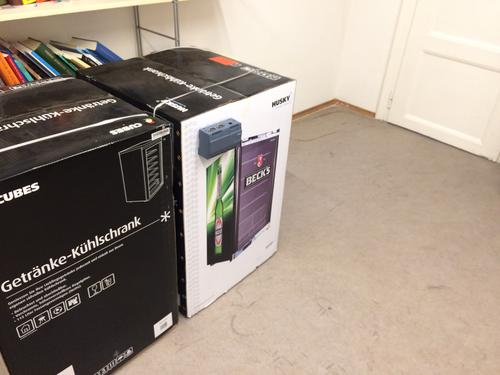iot2000: (197, 117, 242, 160)
